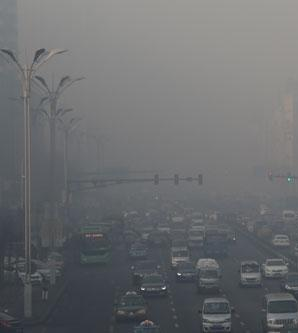bus: (78, 222, 112, 264)
car: (261, 289, 298, 332), (197, 297, 235, 331), (113, 290, 149, 323), (9, 262, 42, 286), (236, 258, 262, 288), (196, 264, 221, 294), (138, 271, 166, 295), (131, 259, 158, 283), (259, 257, 288, 279), (175, 261, 199, 281), (169, 245, 189, 268), (281, 272, 298, 296), (127, 241, 147, 260), (187, 227, 206, 245), (271, 233, 291, 249)
